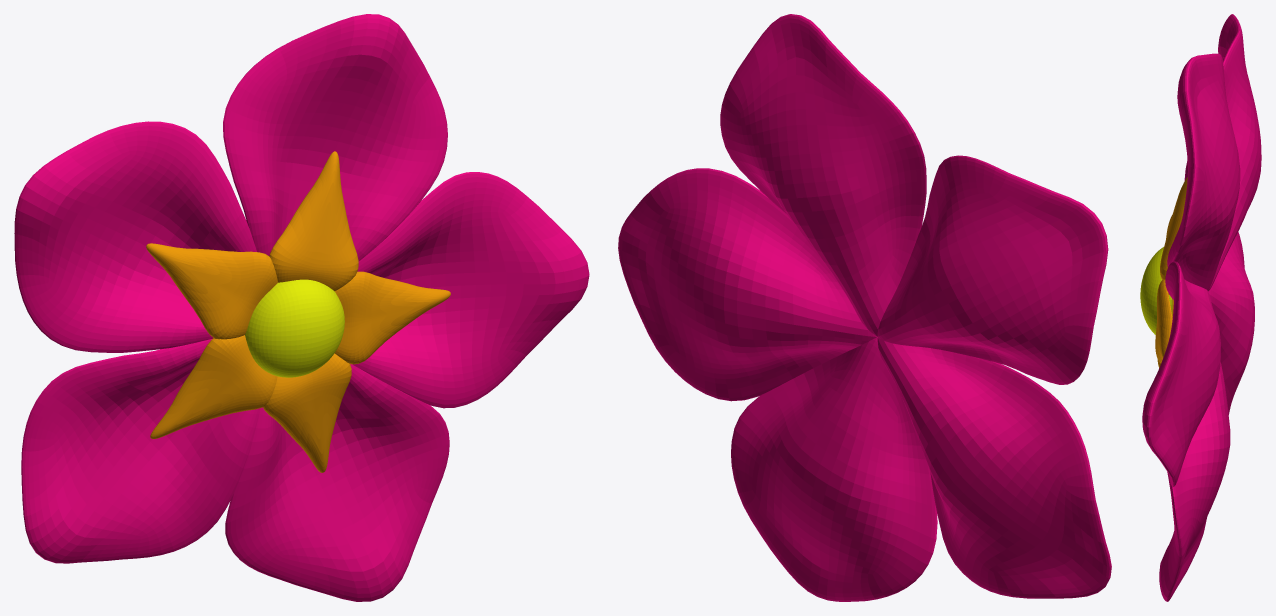
The model's file is flower2.gltf.
3 views of the same model, side by side, from view 1: azimuth 30°, elevation 25°; view 2: azimuth 150°, elevation 25°; view 3: azimuth 270°, elevation 25° (orthographic). The views are drawn at different scales.
Visible parts, largest first — view 1: uploads_files_635005_Flower01; view 2: uploads_files_635005_Flower01; view 3: uploads_files_635005_Flower01.
Boxes of the visible parts, x1,y1,x2,y2 form: uploads_files_635005_Flower01: (14,14,589,601); uploads_files_635005_Flower01: (618,14,1111,601); uploads_files_635005_Flower01: (1140,14,1261,601).
Size of the model in its own units: 0.7442 by 0.7795 by 0.1584.
